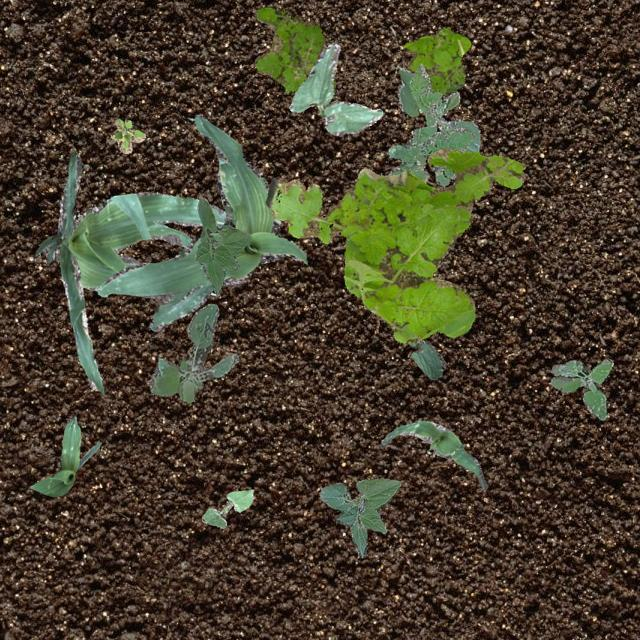crop: (35, 152, 226, 394), (97, 114, 306, 330), (288, 42, 382, 134), (379, 420, 486, 490), (396, 66, 479, 152), (318, 478, 399, 556), (28, 416, 100, 496), (193, 196, 250, 294), (202, 488, 252, 526), (408, 338, 444, 378)
weed: (264, 146, 524, 342), (386, 62, 472, 184), (148, 303, 238, 402), (253, 7, 334, 92), (402, 27, 469, 94), (548, 358, 612, 418), (110, 118, 144, 152)
